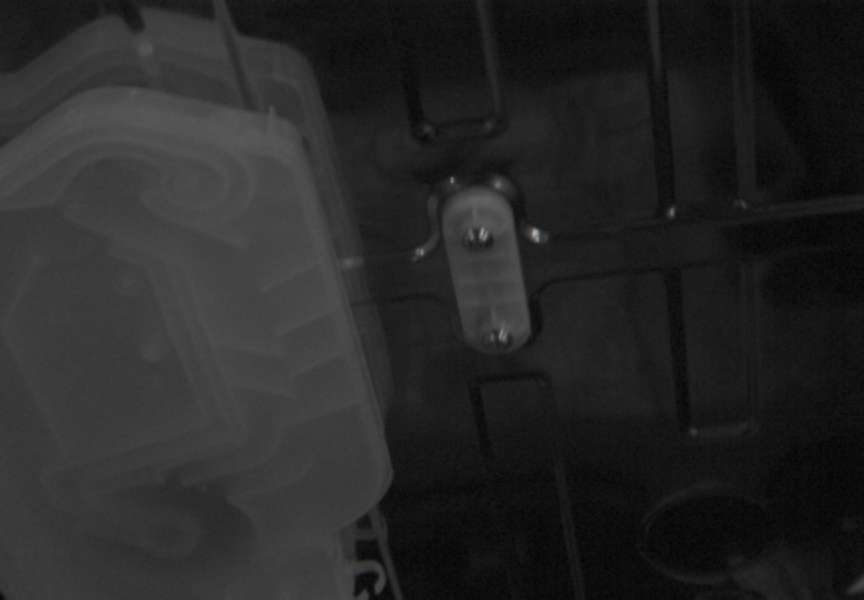screw: (462, 226, 494, 250), (482, 328, 513, 352)
